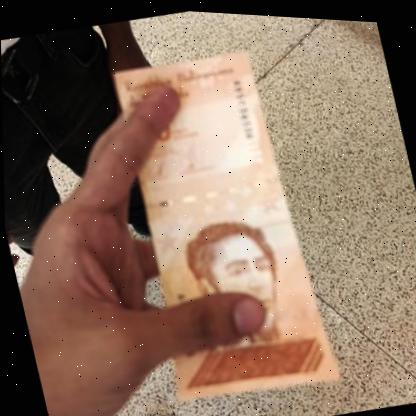twenty-front-vef: (101, 37, 337, 410)
